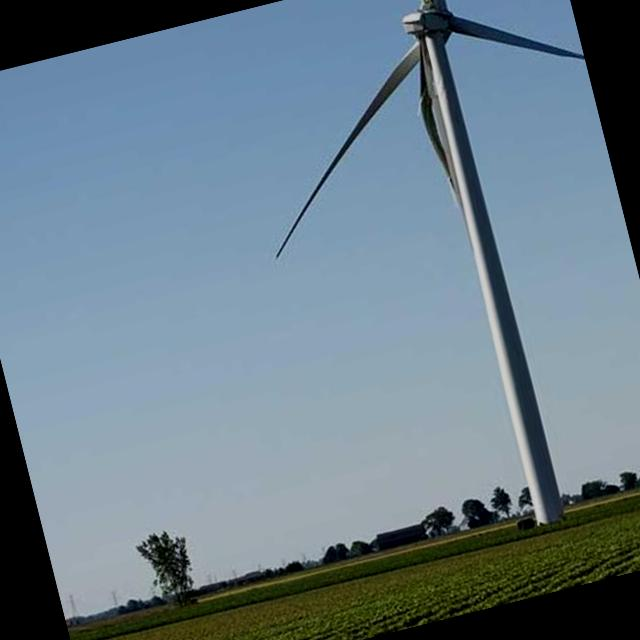crack: (383, 0, 500, 197)
